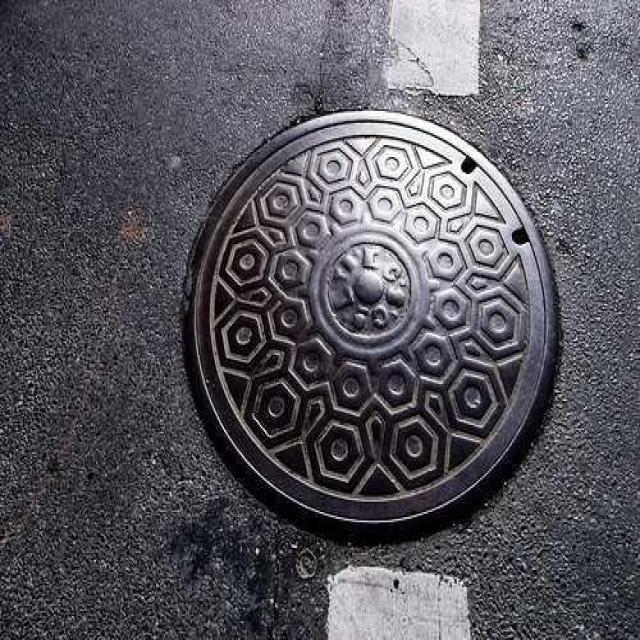manhole: (186, 112, 556, 531)
